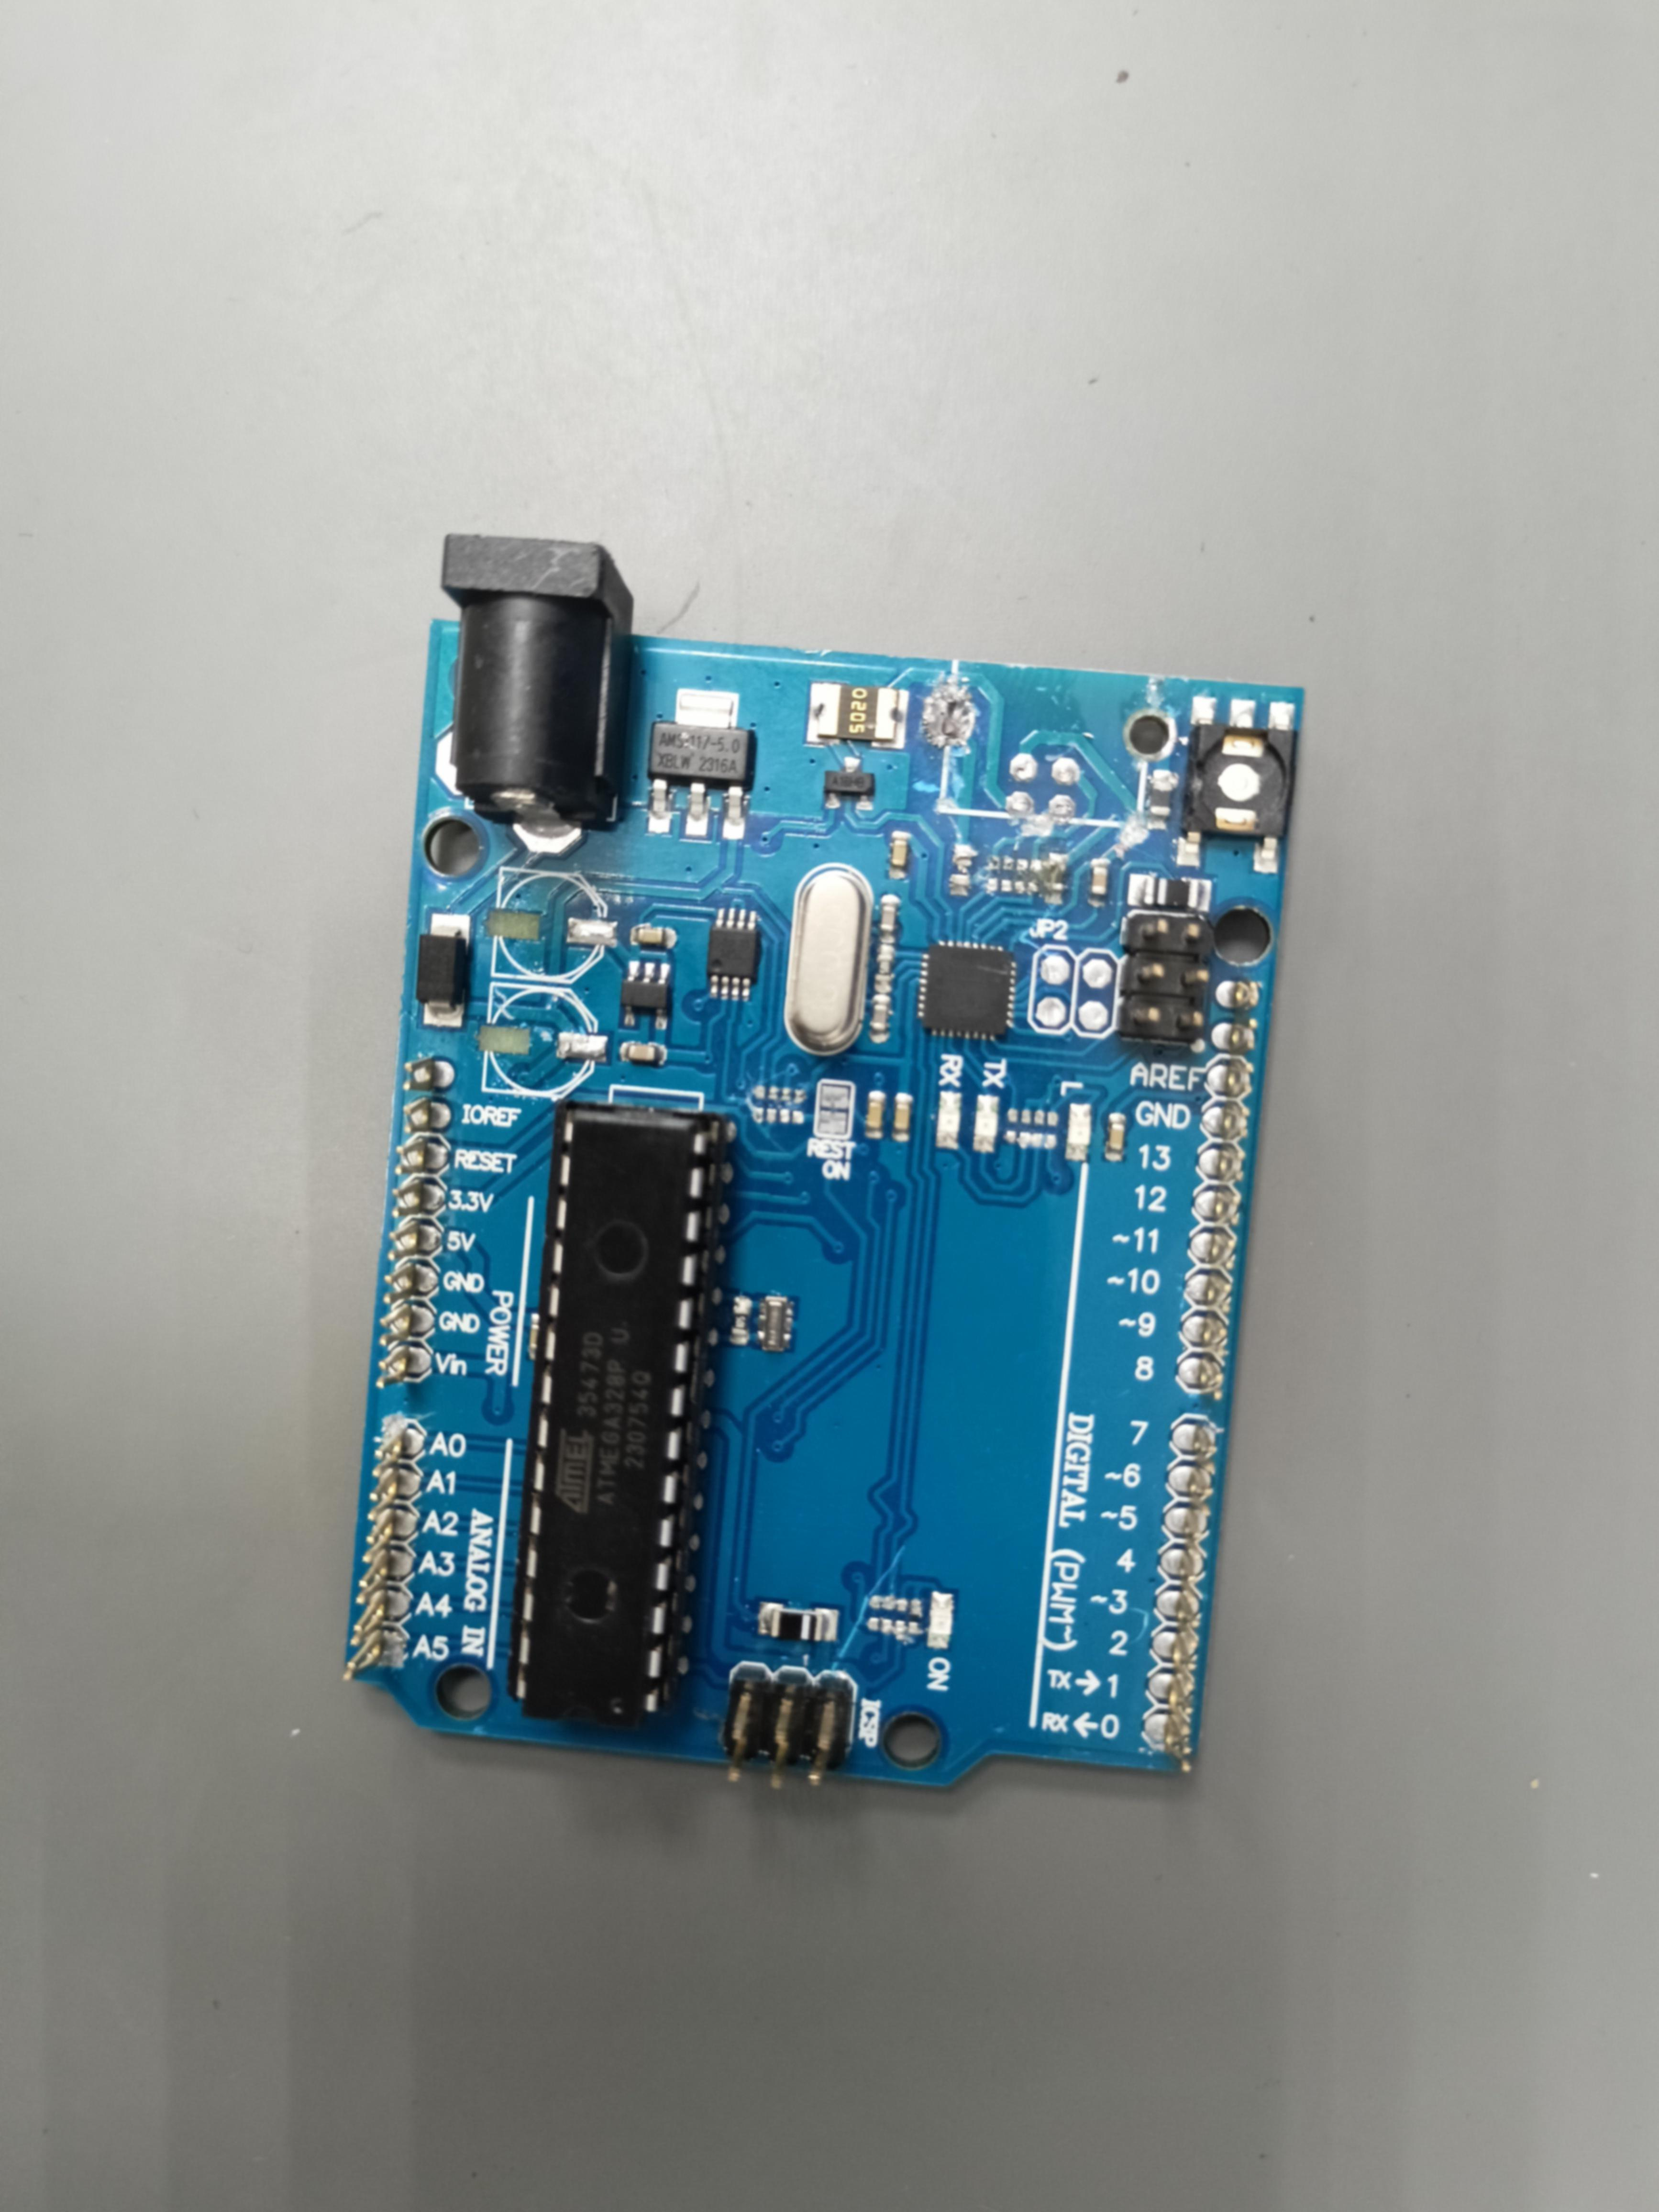ATmega328 chip: (507, 1099, 725, 1728)
Arduino board: (342, 533, 1305, 1789)
